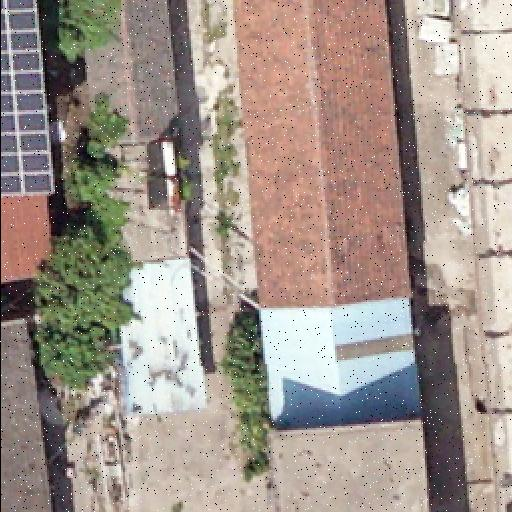solar-panel: (0, 0, 56, 196)
